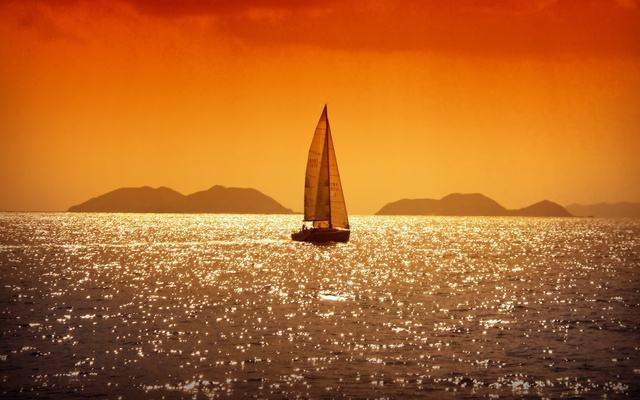fanchuan: (281, 103, 362, 242)
